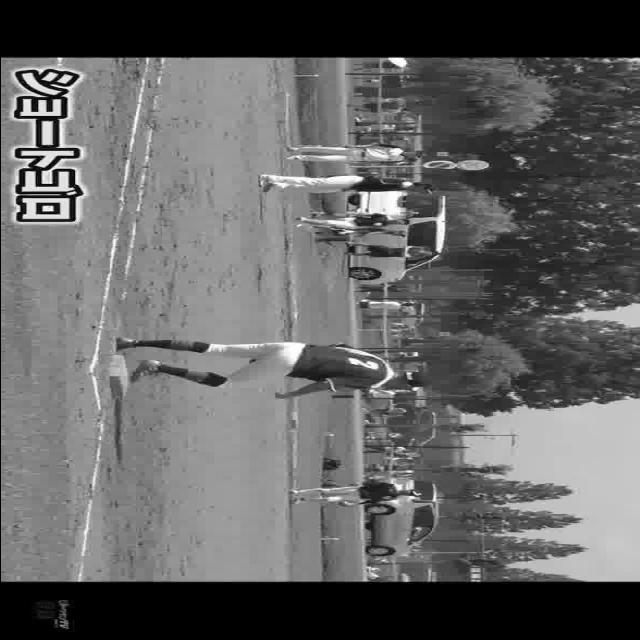base: (105, 356, 126, 398)
shoe: (124, 358, 162, 388), (254, 172, 272, 196), (116, 336, 136, 355)
